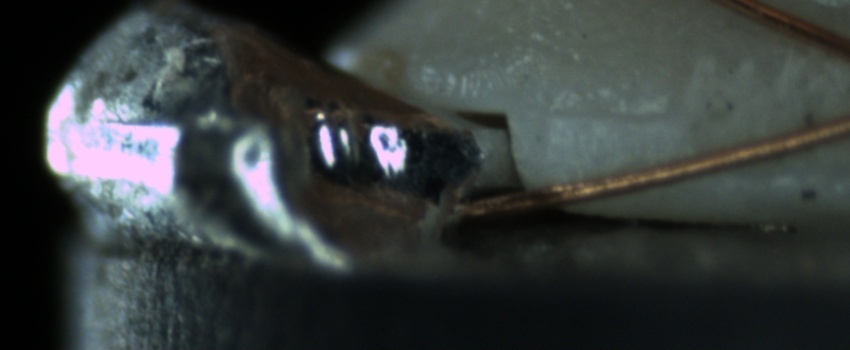DL: (543, 81, 681, 144)
